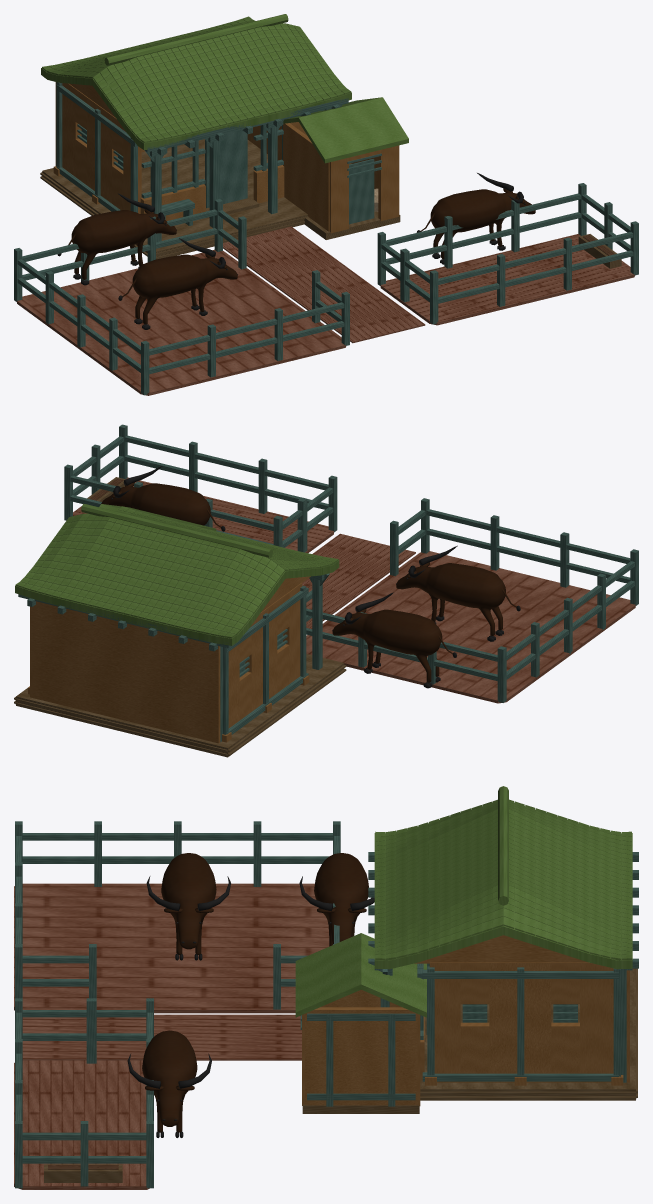
3 renders of one model, top to bottom at view 1: azimuth 30°, elevation 25°; view 2: azimuth 150°, elevation 25°; view 3: azimuth 270°, elevation 25°, orthographic. The views are drawn at different scales.
Visible parts, largest first — view 1: garrison_part_0001, garrison_part_0000; view 2: garrison_part_0001, garrison_part_0000; view 3: garrison_part_0001, garrison_part_0000.
Boxes of the visible parts, x1,y1,x2,y2 form: garrison_part_0001: [14, 14, 638, 395]; garrison_part_0000: [17, 139, 634, 395]; garrison_part_0001: [15, 424, 638, 743]; garrison_part_0000: [14, 477, 635, 757]; garrison_part_0001: [15, 786, 638, 1188]; garrison_part_0000: [14, 883, 637, 1189].
Size of the model in its own units: 1500 by 457 by 1309.
Materials: 1 (1 with a texture image).
